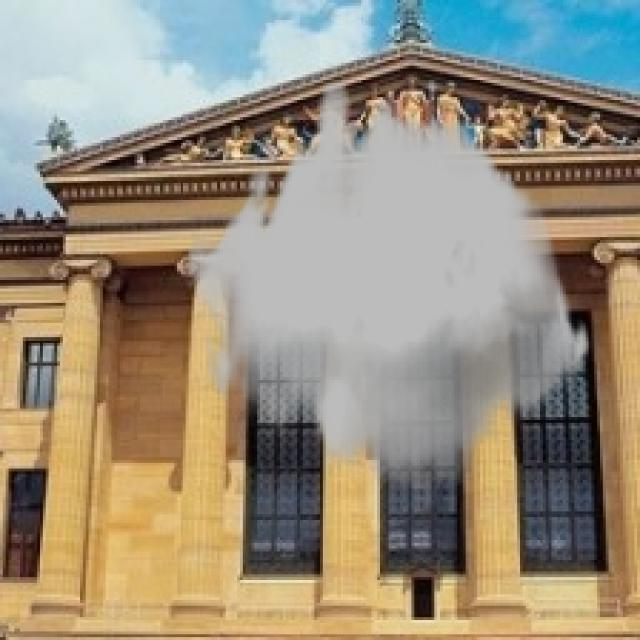smoke: (186, 83, 591, 488)
